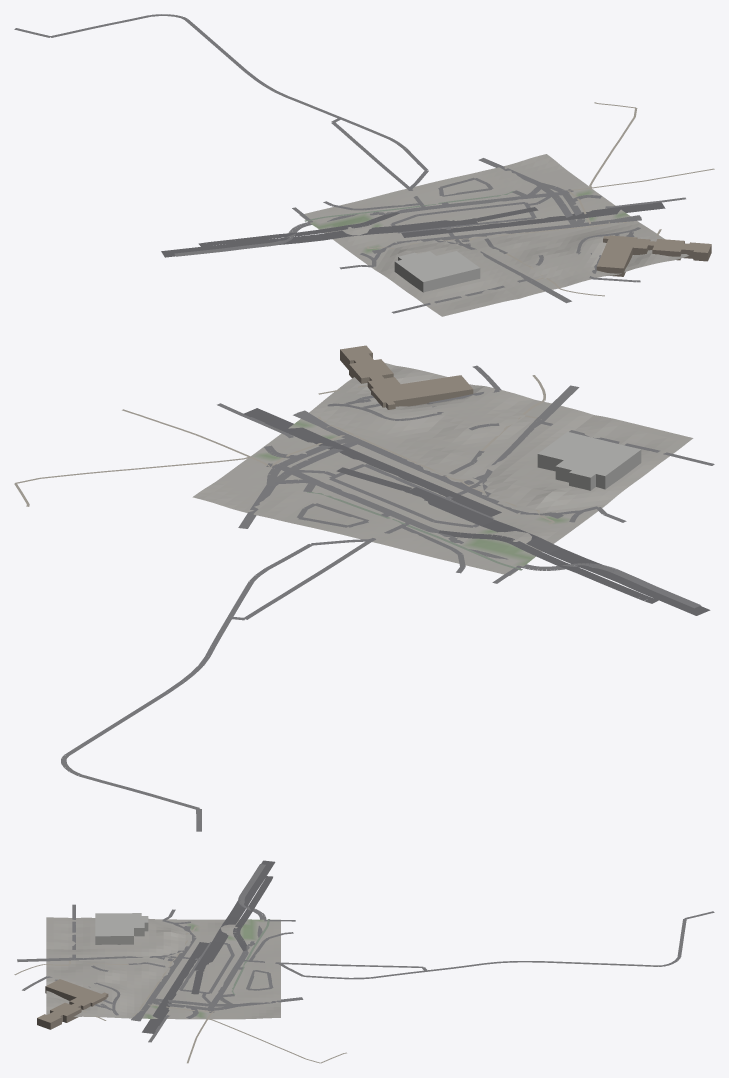
The model's file is tile_2_6.glb.
3 renders of one model, top to bottom at view 1: azimuth 30°, elevation 25°; view 2: azimuth 150°, elevation 25°; view 3: azimuth 270°, elevation 25°, orthographic. The views are drawn at different scales.
Parts seen in each view (by area): view 1: terrain, roads, buildings; view 2: terrain, roads, buildings; view 3: terrain, roads, buildings.
Part boxes in pixels (x1=…): terrain: x1=299, y1=154, x2=688, y2=316; roads: x1=14, y1=14, x2=714, y2=313; buildings: x1=394, y1=235, x2=711, y2=292; terrain: x1=192, y1=362, x2=693, y2=575; roads: x1=14, y1=365, x2=714, y2=831; buildings: x1=340, y1=345, x2=641, y2=490; terrain: x1=46, y1=917, x2=280, y2=1019; roads: x1=14, y1=860, x2=714, y2=1063; buildings: x1=37, y1=913, x2=148, y2=1029.
Bounding box in the file's own units: 525 × 14.11 × 764.
